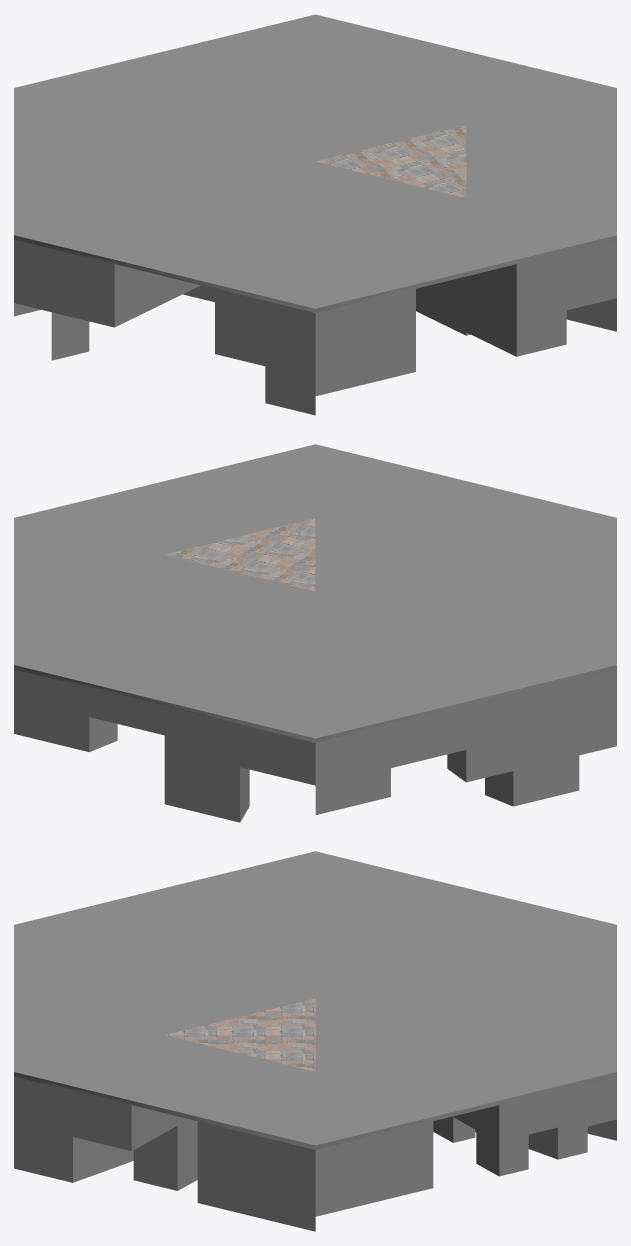
The picture shows the model from 3 angles, top to bottom: view 1: azimuth 30°, elevation 25°; view 2: azimuth 150°, elevation 25°; view 3: azimuth 270°, elevation 25°; orthographic projection.
Parts seen in each view (by area): view 1: Cylinder044; view 2: Cylinder044; view 3: Cylinder044.
Boxes of the visible parts, bbox=[...] form: Cylinder044: bbox=[14, 14, 616, 415]; Cylinder044: bbox=[14, 444, 616, 822]; Cylinder044: bbox=[14, 851, 616, 1231].
Size of the model in its own units: 140 by 40 by 121.
5 materials, 2 textured.
